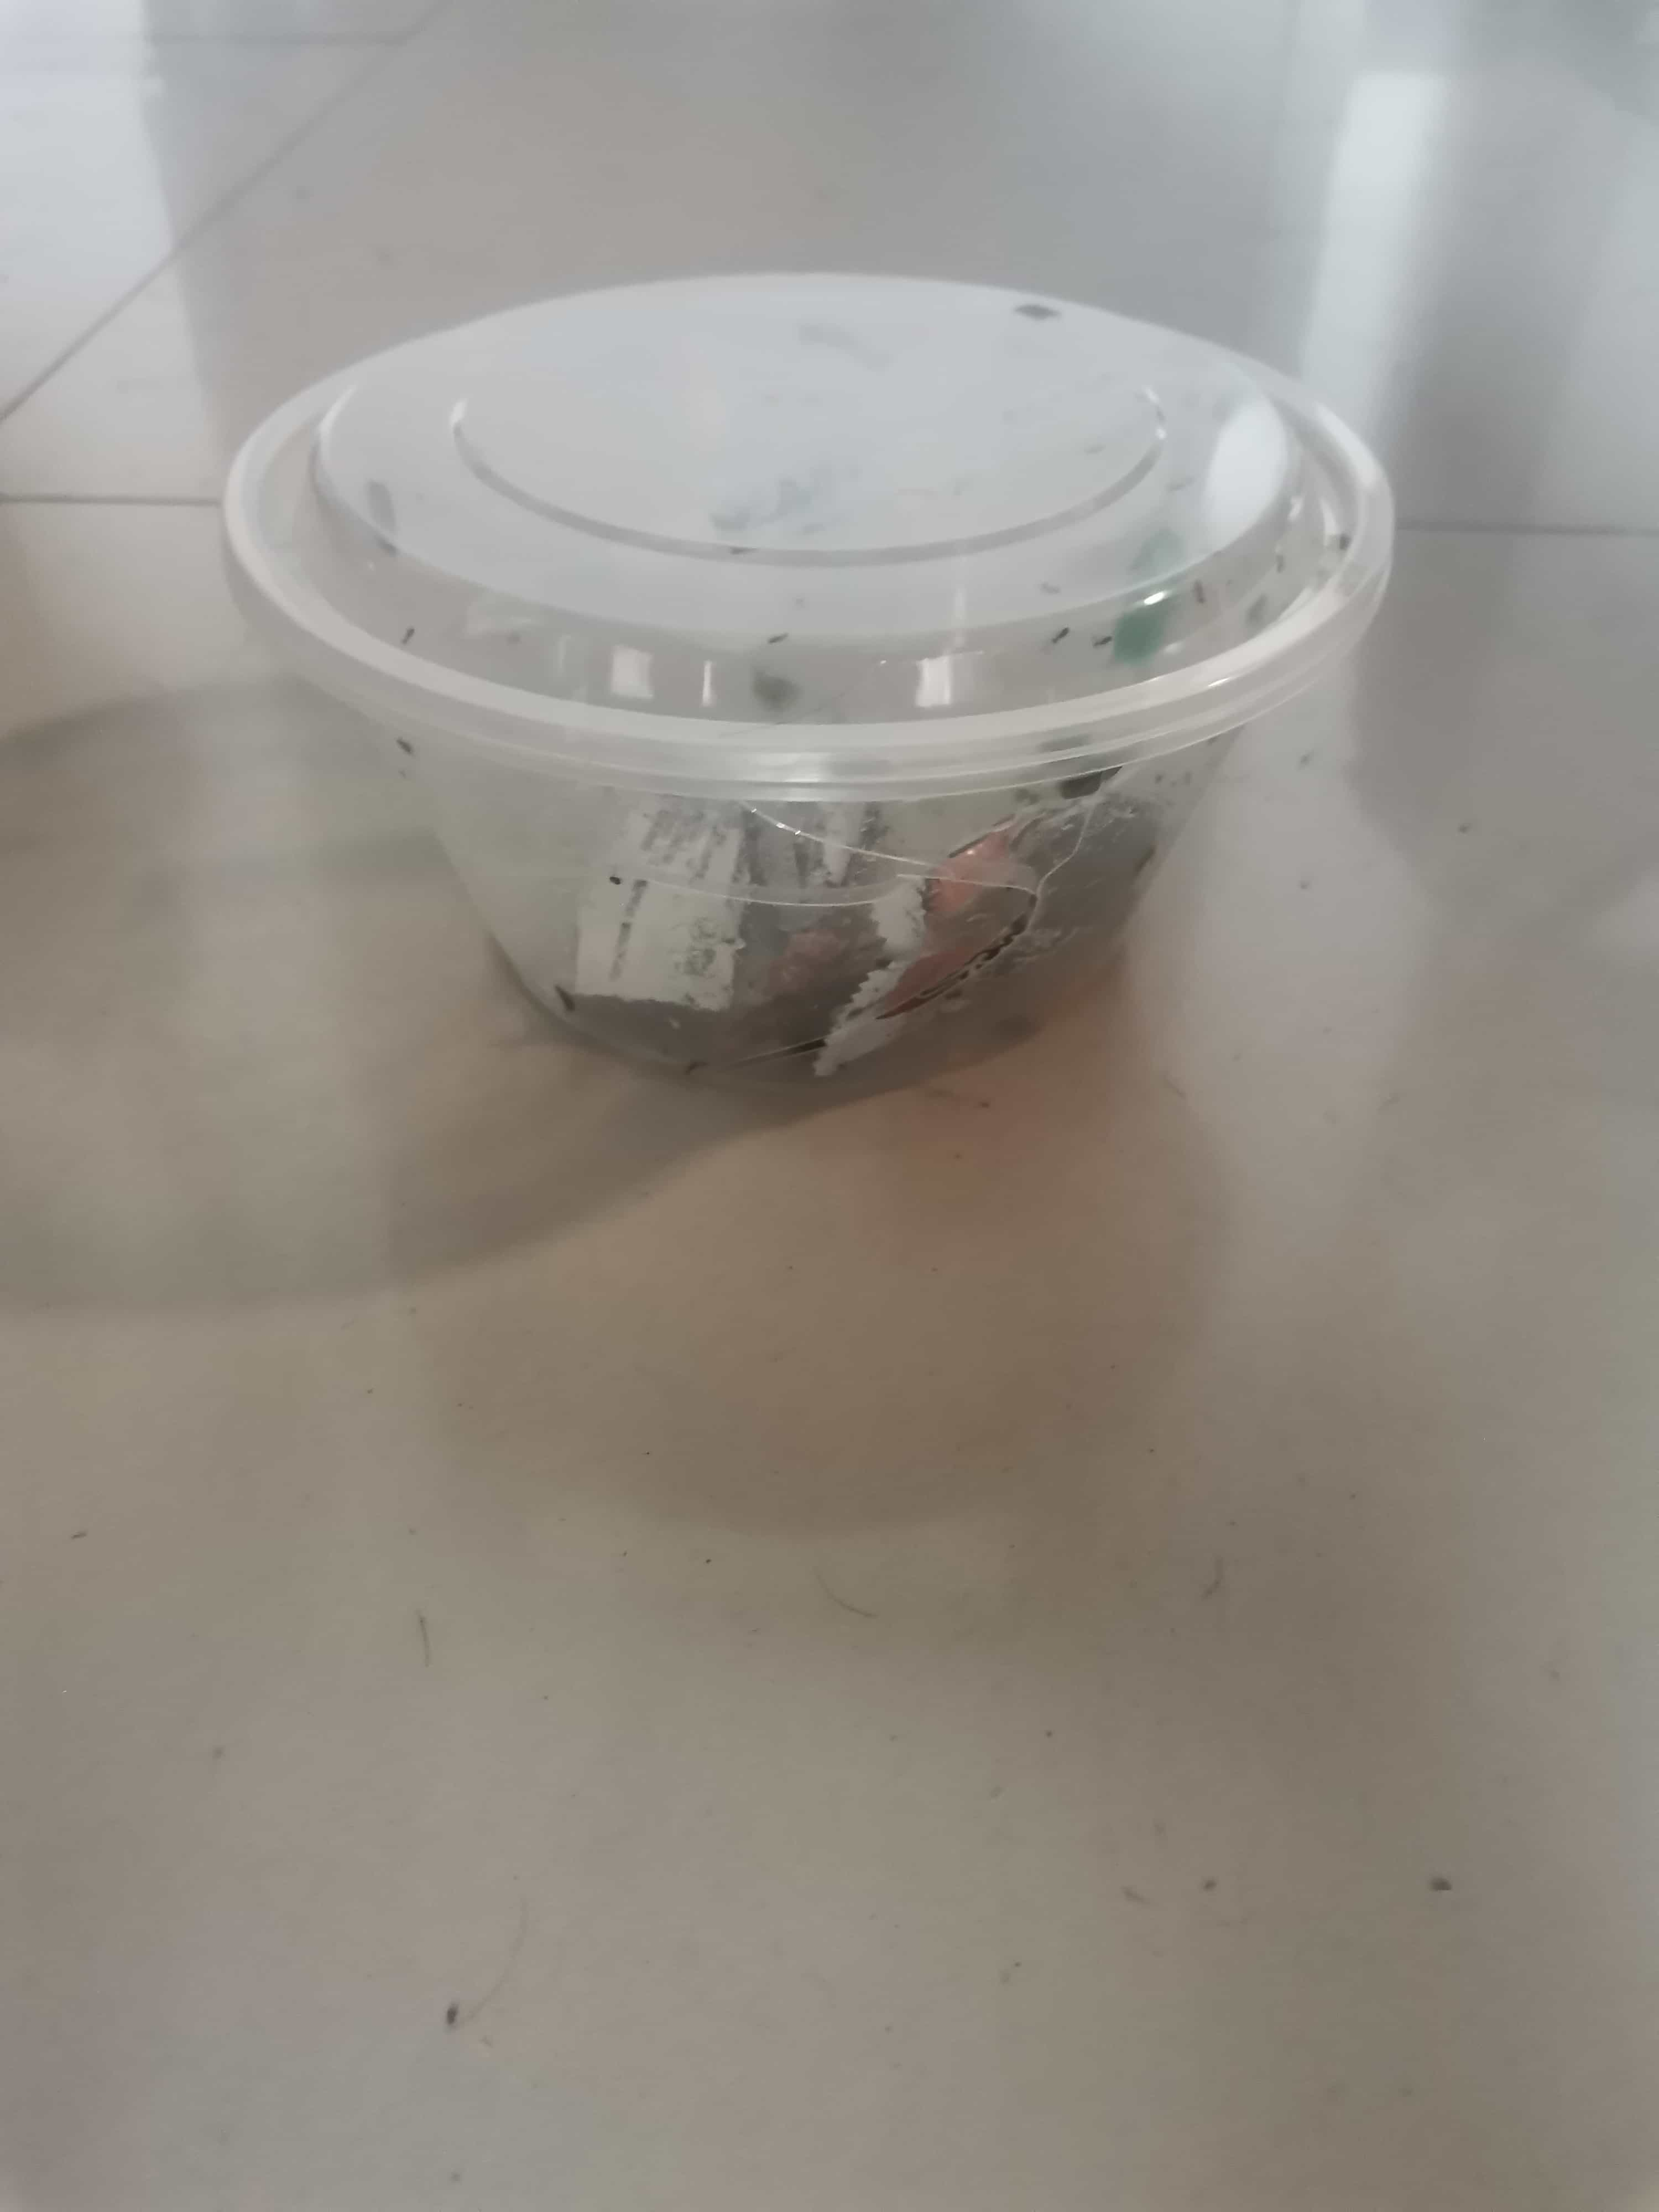fastfood_box: (204, 249, 1419, 1134)
